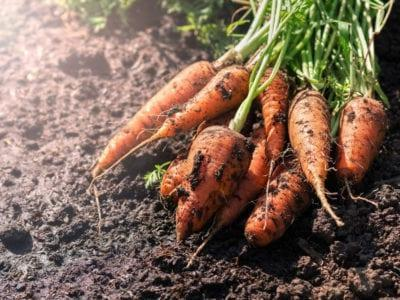carrot: (98, 61, 310, 249), (253, 56, 386, 186), (176, 116, 258, 245)
